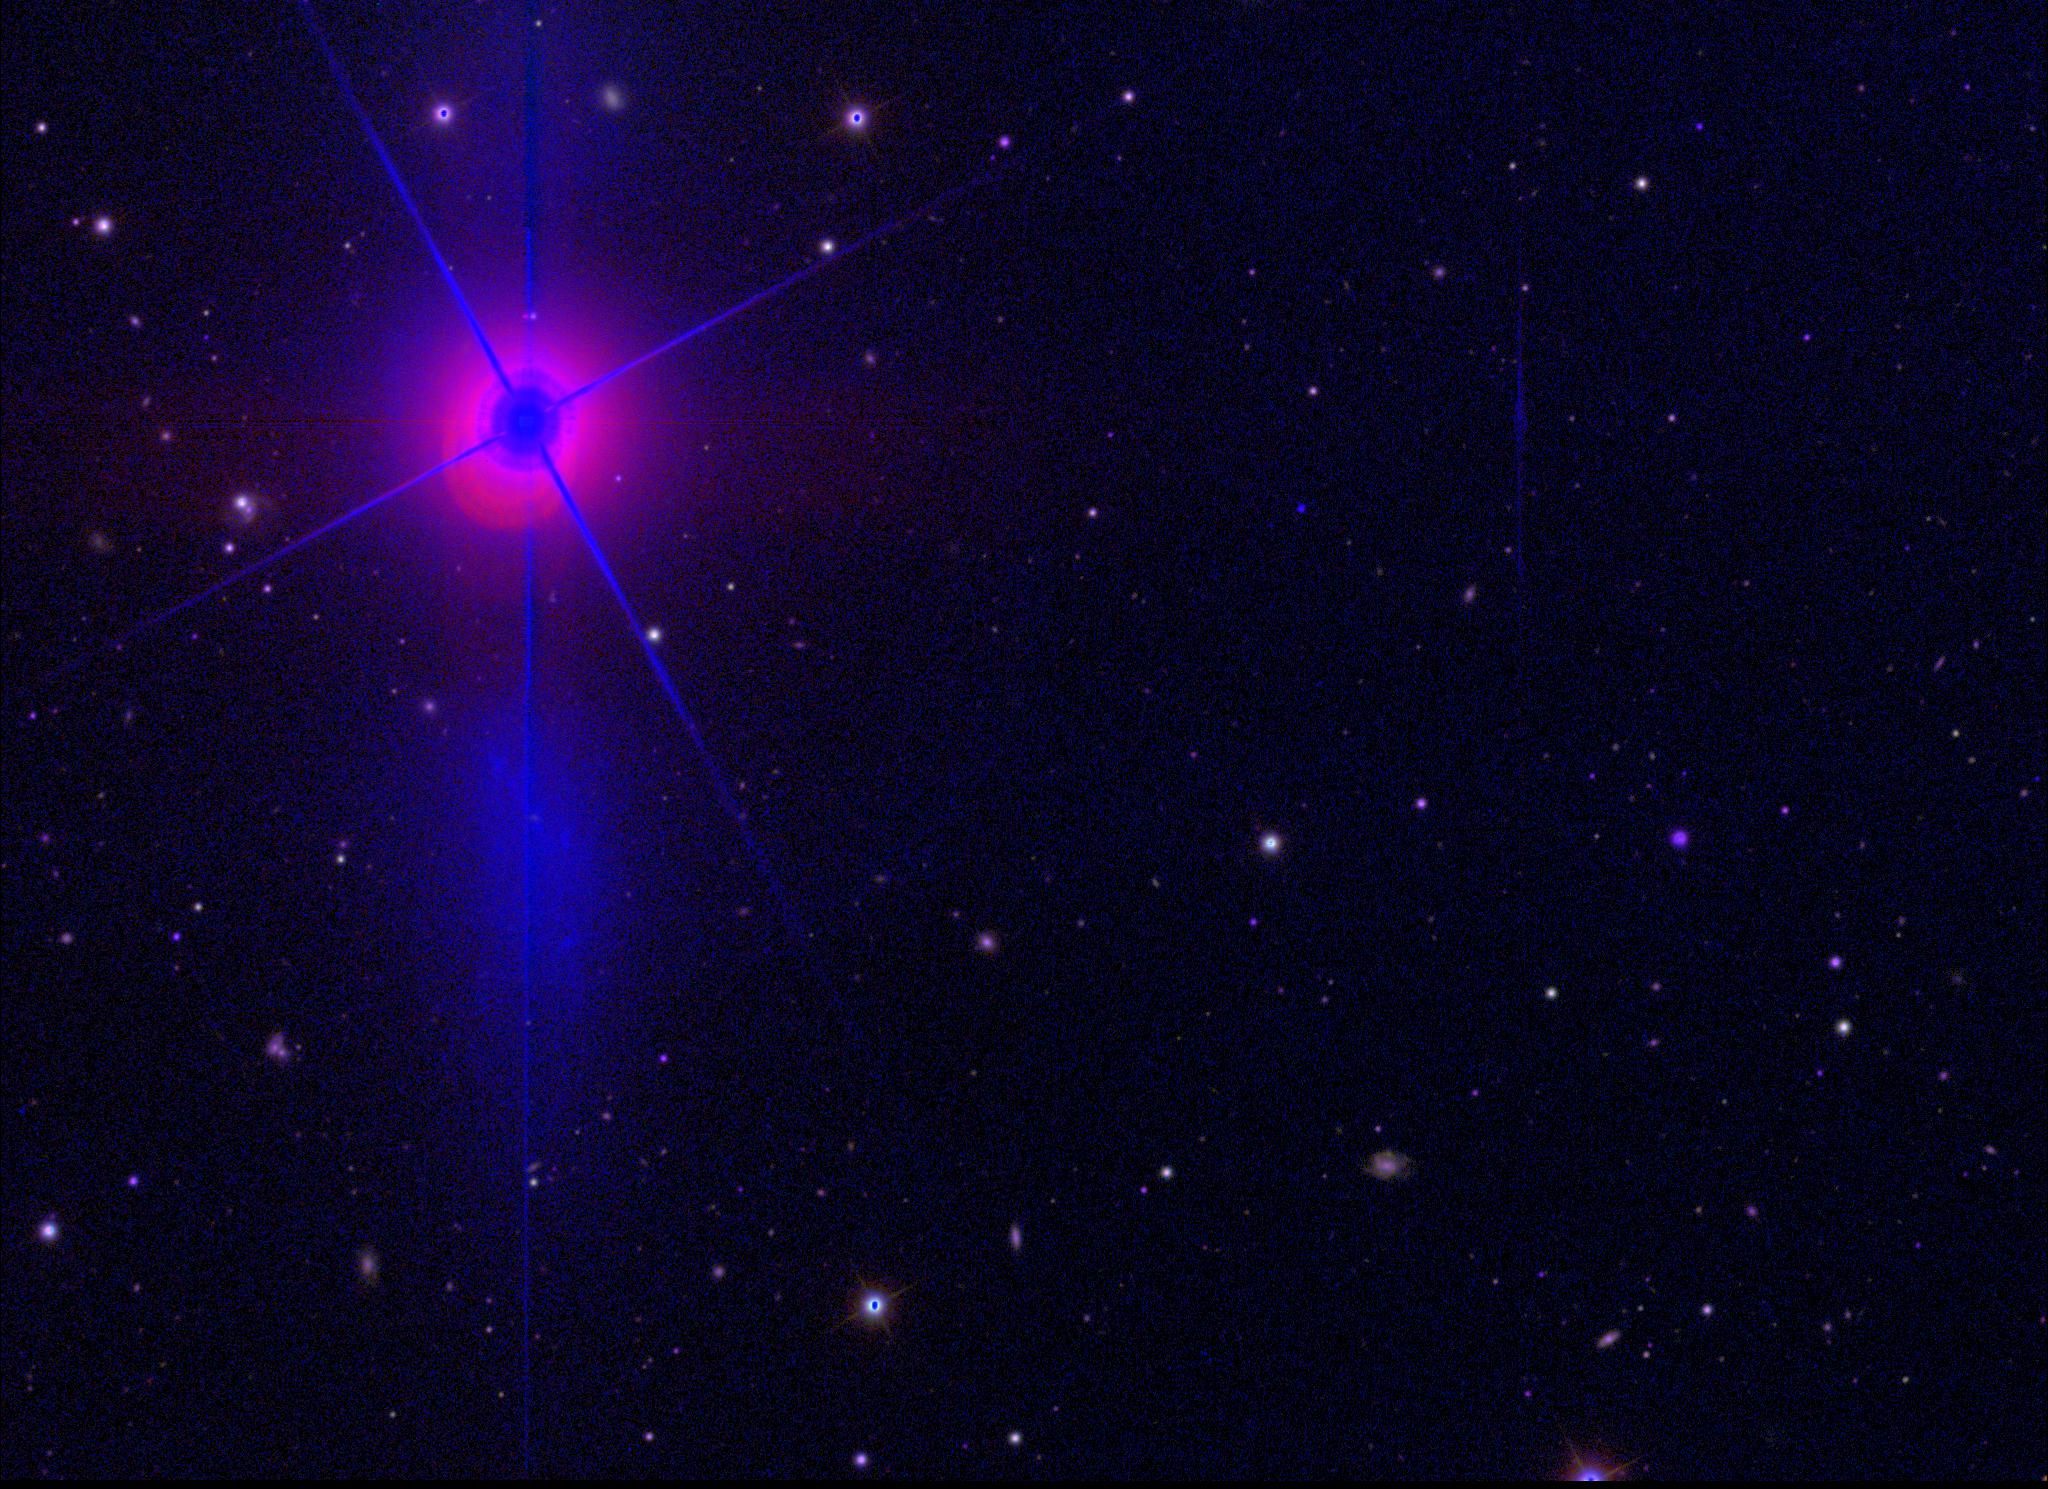L: (1293, 503, 1305, 517)
